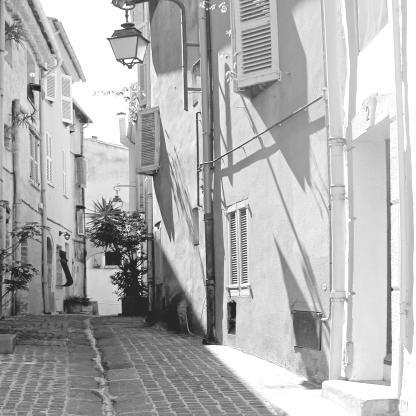light_pole: (108, 0, 222, 345)
